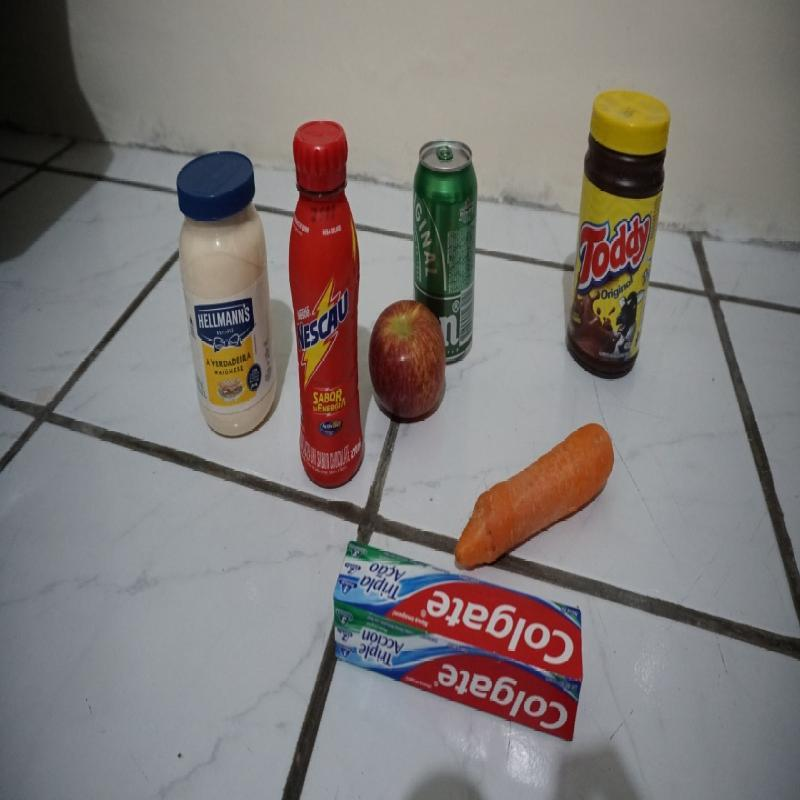Apple: (366, 296, 446, 422)
Beer can: (411, 137, 478, 362)
Carrot: (452, 422, 615, 572)
Chocolate Milk: (290, 122, 367, 490)
Chocolate Powder: (567, 88, 675, 382)
Mayonnaise: (177, 152, 276, 436)
Toothpaste: (333, 541, 585, 743)
